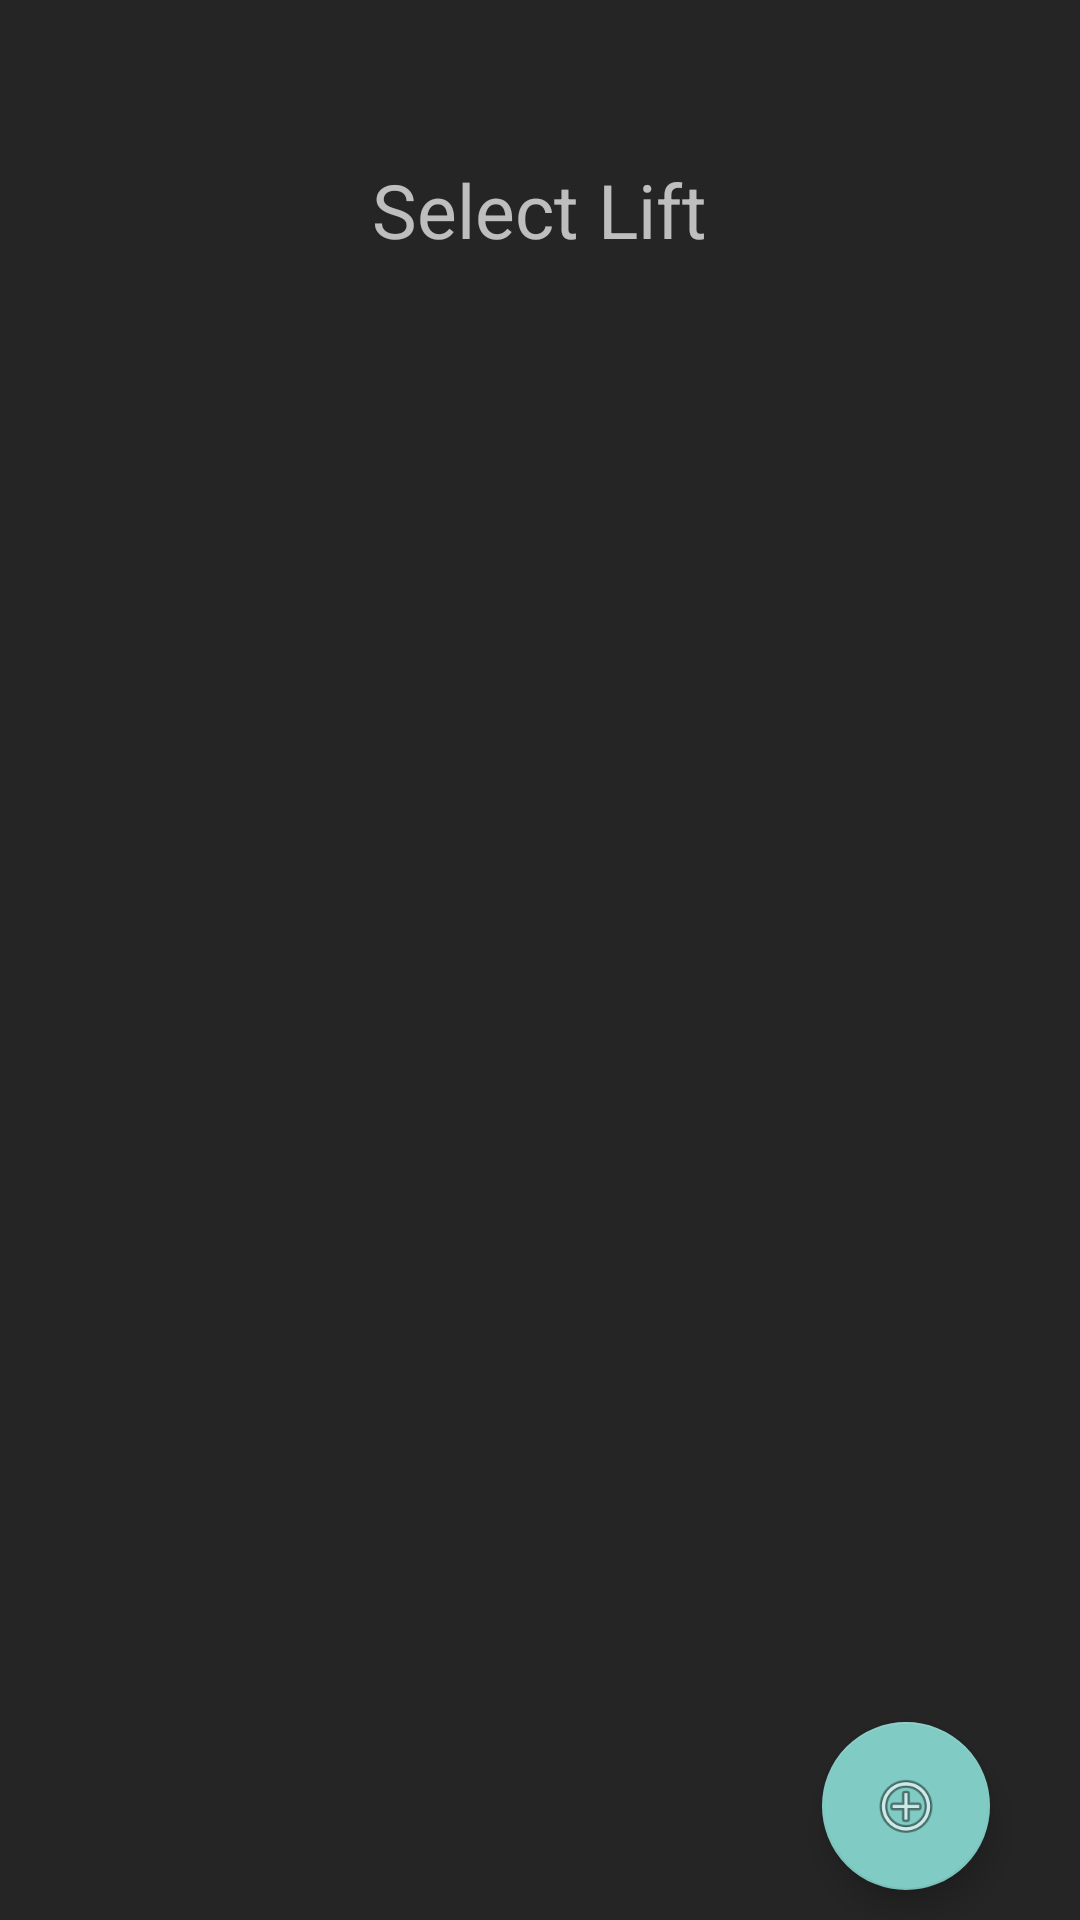

Where icons sit on this 1080*1920 app screen, as BBox(x1, y1, x2, y2):
add: BBox(822, 1722, 990, 1890)
